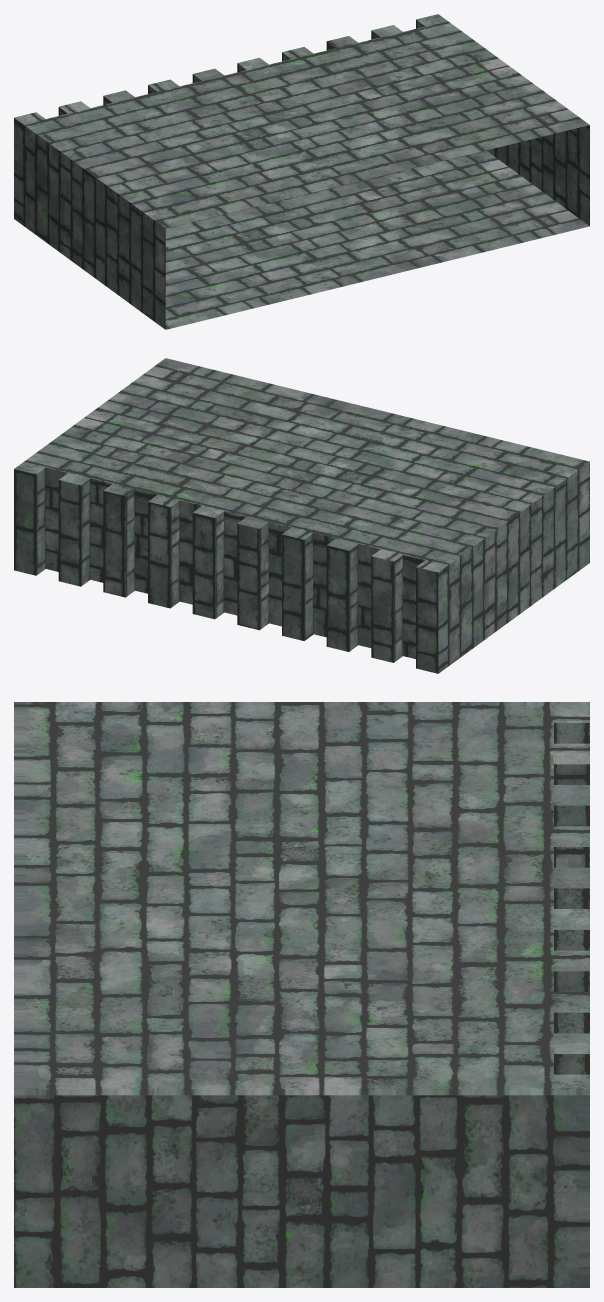
File: Stone_Gate_01.fbx
The picture shows the model from 3 angles, top to bottom: view 1: azimuth 30°, elevation 25°; view 2: azimuth 150°, elevation 25°; view 3: azimuth 270°, elevation 25°; orthographic projection. The views are drawn at different scales.
Parts seen in each view (by area): view 1: Stone_Gate_01; view 2: Stone_Gate_01; view 3: Stone_Gate_01.
Part boxes in pixels (x1,y1,x2,y2): Stone_Gate_01: [14, 14, 589, 329]; Stone_Gate_01: [14, 358, 589, 673]; Stone_Gate_01: [14, 702, 589, 1287].
Bounding box in the file's own units: 1558 × 356 × 965.
